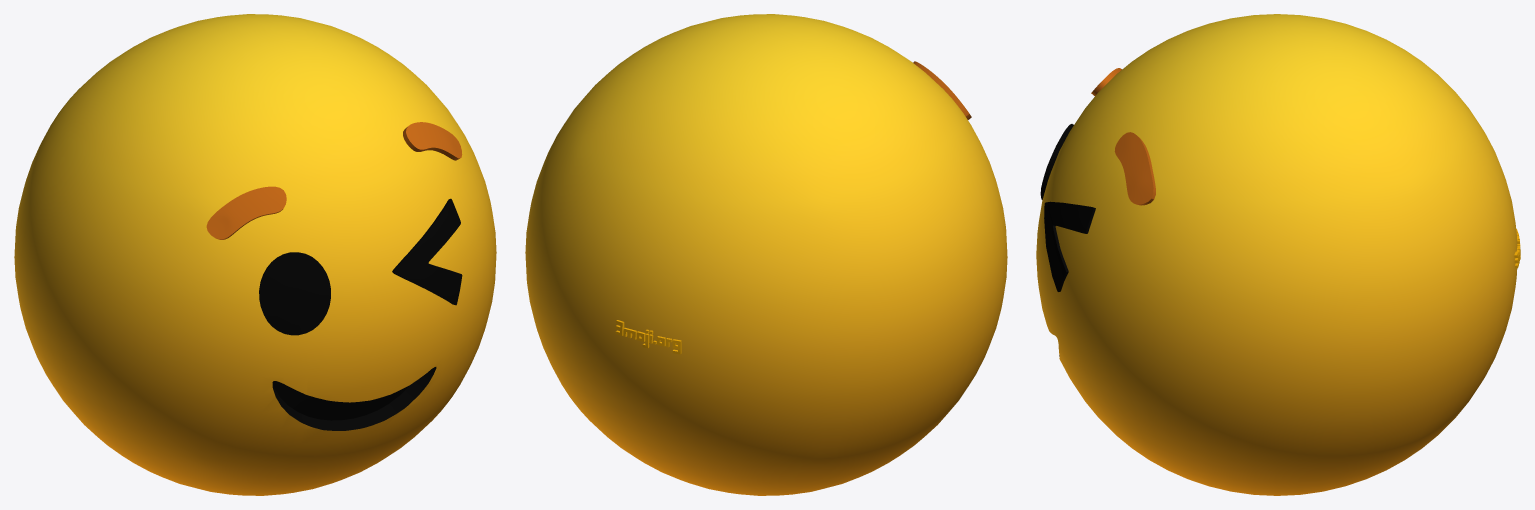
Rendered from winking_face.glb.
3 renders of one model, left to right at view 1: azimuth 30°, elevation 25°; view 2: azimuth 150°, elevation 25°; view 3: azimuth 270°, elevation 25°, orthographic.
Parts seen in each view (by area): view 1: Winking Face; view 2: Winking Face; view 3: Winking Face.
Boxes of the visible parts, x1,y1,x2,y2 form: Winking Face: (14,14,496,495); Winking Face: (525,14,1007,495); Winking Face: (1036,14,1520,495).
Size of the model in its own units: 1.69 by 1.69 by 1.7.
1 material, 1 textured.
